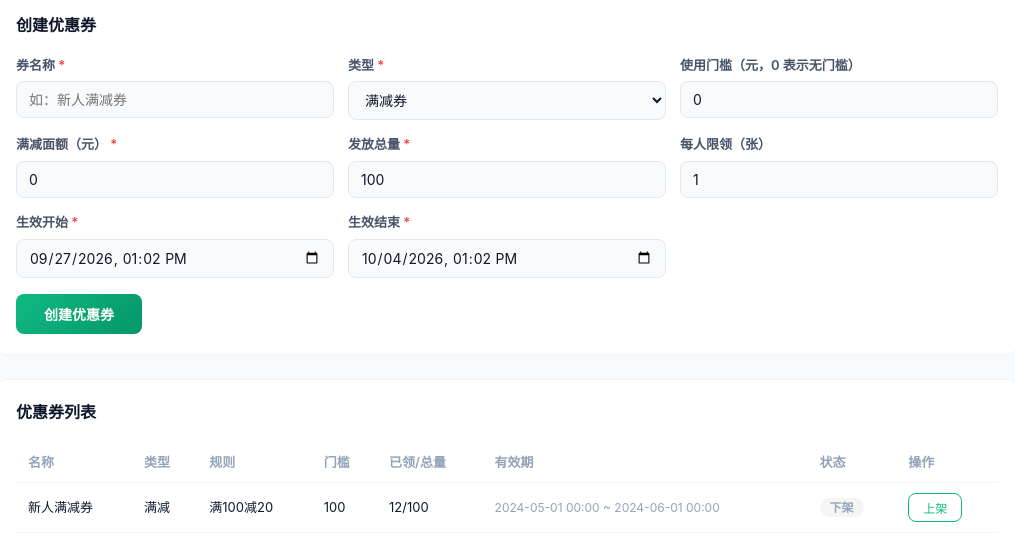
Test: admin/Coupons 优惠券管理 › 上架优惠券：INACTIVE → ACTIVE
Click the button with class "btn-toggle".
click(935, 508)  # box x1=908 y1=493 x2=962 y2=522
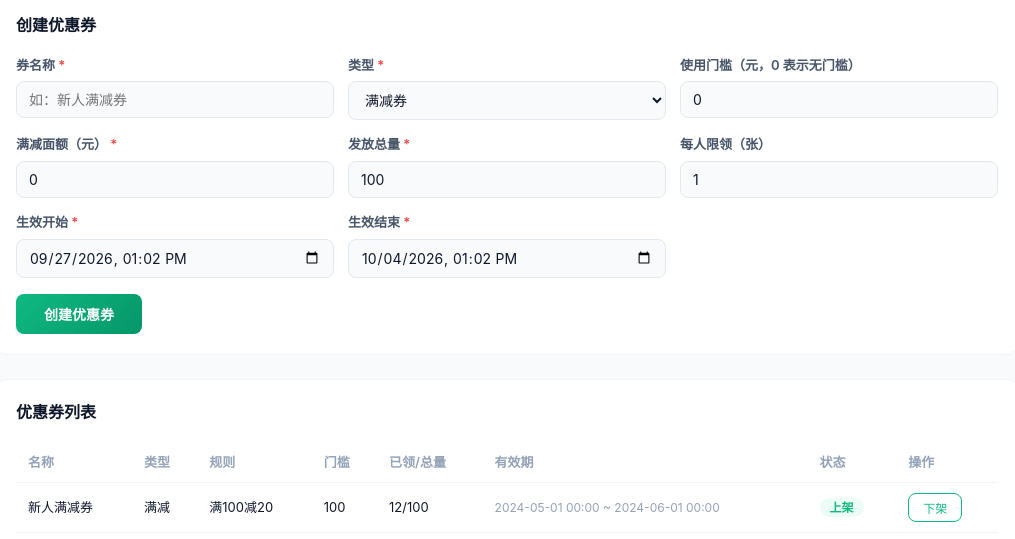
Check: the text with class "badge" reads "上架", box x1=830 y1=500 x2=854 y2=516
